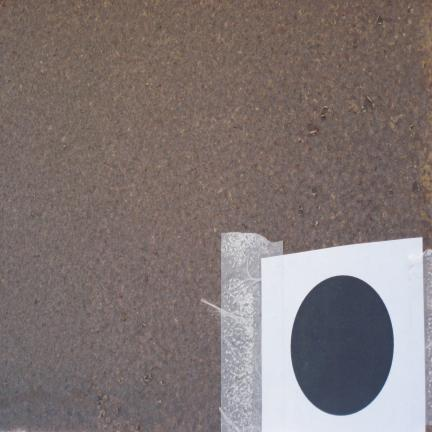besi_tidak_karat: (262, 238, 425, 431)
karat: (0, 0, 431, 431)
